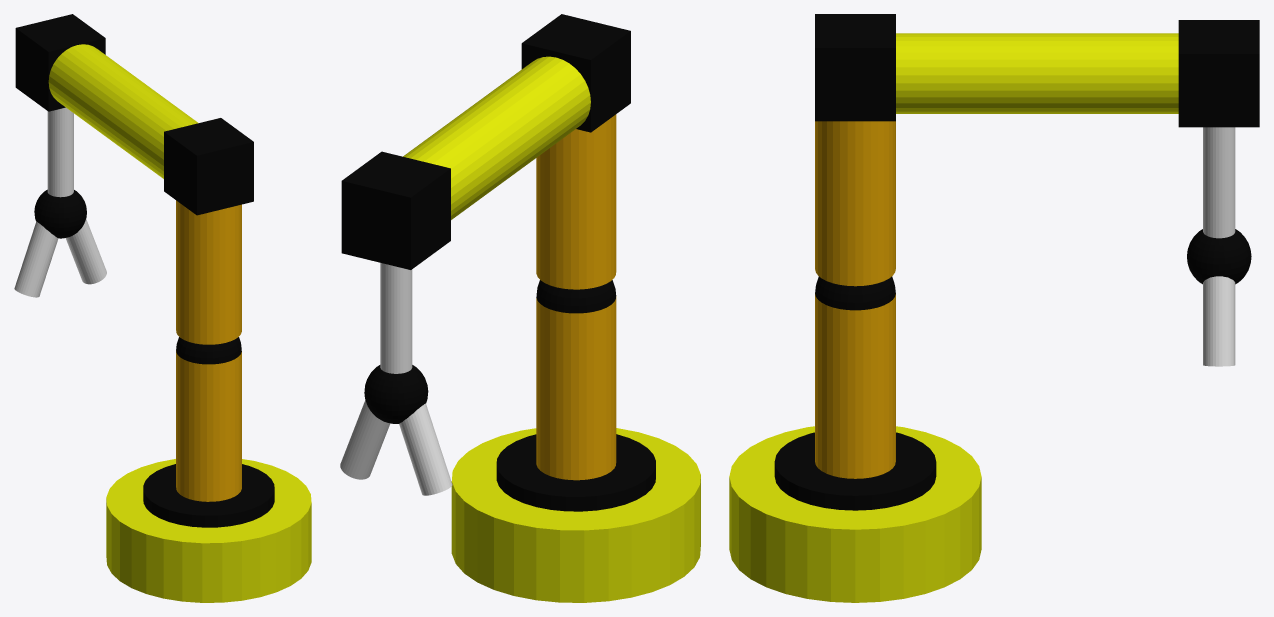
File: Roboterarm1.gltf
3 renders of one model, left to right at view 1: azimuth 30°, elevation 25°; view 2: azimuth 150°, elevation 25°; view 3: azimuth 270°, elevation 25°, orthographic. The views are drawn at different scales.
Parts seen in each view (by area): view 1: Zylinder.004, Zylinder.003, Zylinder.002, Zylinder.005, Würfel.001, Zylinder, Würfel, Zylinder.006, Kugel, Zylinder.001, Zylinder.007, Kugel.001; view 2: Zylinder.004, Zylinder.003, Zylinder.002, Zylinder.005, Würfel, Zylinder, Würfel.001, Zylinder.006, Kugel, Zylinder.001, Zylinder.007, Kugel.001; view 3: Zylinder.004, Zylinder.003, Zylinder.002, Zylinder.005, Würfel, Würfel.001, Zylinder, Zylinder.006, Zylinder.007, Kugel, Kugel.001.
Boxes of the visible parts, bbox=[...] form: Zylinder.004: bbox=[106, 459, 311, 602]; Zylinder.003: bbox=[48, 44, 198, 178]; Zylinder.002: bbox=[176, 350, 241, 501]; Zylinder.005: bbox=[176, 200, 241, 344]; Würfel.001: bbox=[164, 118, 253, 215]; Zylinder: bbox=[143, 464, 274, 527]; Würfel: bbox=[15, 14, 105, 111]; Zylinder.006: bbox=[47, 107, 73, 197]; Kugel: bbox=[34, 189, 86, 238]; Zylinder.001: bbox=[14, 221, 58, 297]; Zylinder.007: bbox=[65, 219, 106, 284]; Kugel.001: bbox=[176, 337, 241, 364]; Zylinder.004: bbox=[451, 428, 700, 602]; Zylinder.003: bbox=[403, 56, 590, 219]; Zylinder.002: bbox=[536, 296, 616, 480]; Zylinder.005: bbox=[536, 114, 616, 289]; Würfel: bbox=[341, 151, 450, 269]; Zylinder: bbox=[496, 434, 655, 511]; Würfel.001: bbox=[521, 14, 630, 132]; Zylinder.006: bbox=[380, 263, 412, 373]; Kugel: bbox=[364, 365, 428, 423]; Zylinder.001: bbox=[399, 403, 452, 495]; Zylinder.007: bbox=[340, 400, 390, 479]; Kugel.001: bbox=[536, 280, 616, 313]; Zylinder.004: bbox=[729, 426, 981, 602]; Zylinder.003: bbox=[896, 33, 1178, 113]; Zylinder.002: bbox=[815, 294, 895, 478]; Zylinder.005: bbox=[815, 121, 895, 286]; Würfel: bbox=[1178, 20, 1259, 127]; Würfel.001: bbox=[815, 14, 895, 121]; Zylinder: bbox=[774, 432, 936, 510]; Zylinder.006: bbox=[1203, 127, 1235, 238]; Zylinder.007: bbox=[1203, 276, 1235, 366]; Kugel: bbox=[1187, 229, 1251, 284]; Kugel.001: bbox=[815, 276, 895, 310].
Bounding box in the file's own units: 6.24 × 14.16 × 13.12.
